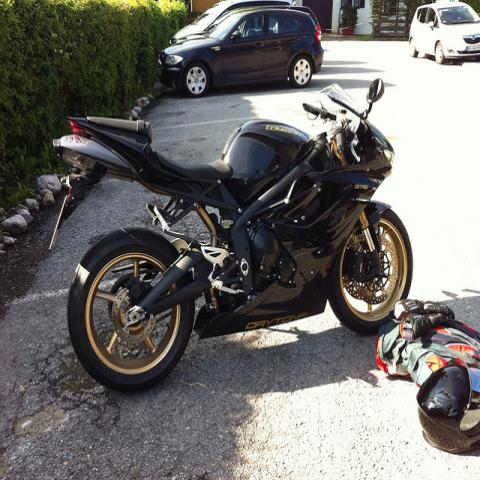car: (158, 5, 324, 92), (173, 1, 305, 45), (409, 2, 480, 64)
motorcycle: (47, 73, 416, 396)
